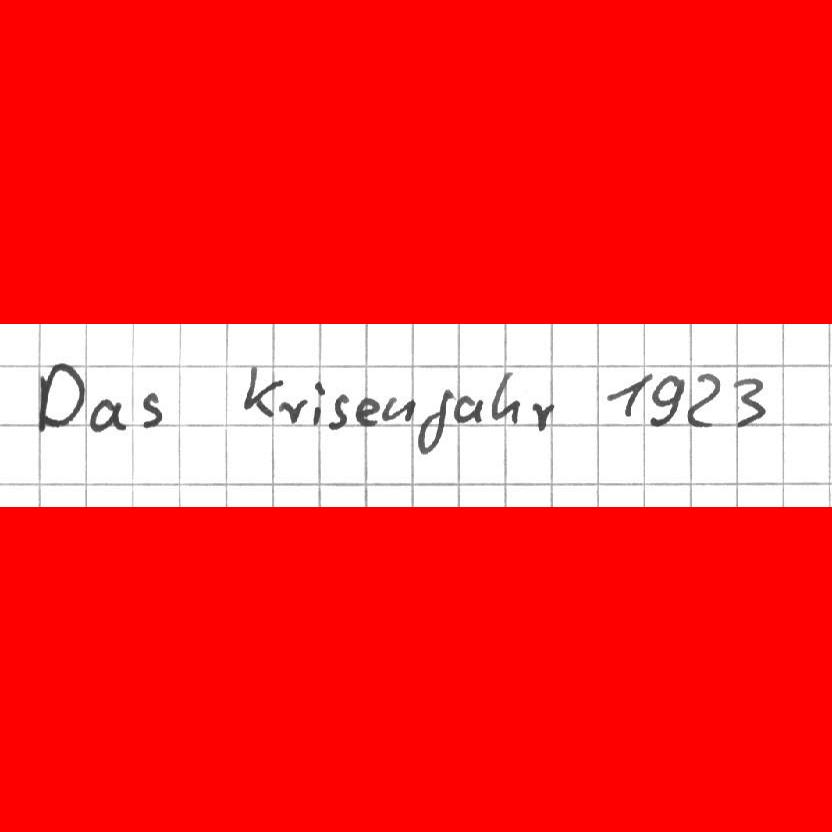Char: (34, 359, 86, 435), (414, 383, 456, 456), (603, 371, 653, 419), (647, 372, 686, 430), (686, 373, 725, 429), (243, 365, 281, 421), (731, 376, 768, 432), (488, 372, 521, 428), (87, 394, 127, 434), (451, 393, 485, 427), (274, 396, 309, 427), (382, 393, 414, 424), (139, 388, 163, 429), (530, 399, 554, 435), (327, 392, 349, 430), (354, 394, 378, 426), (311, 378, 325, 428)
